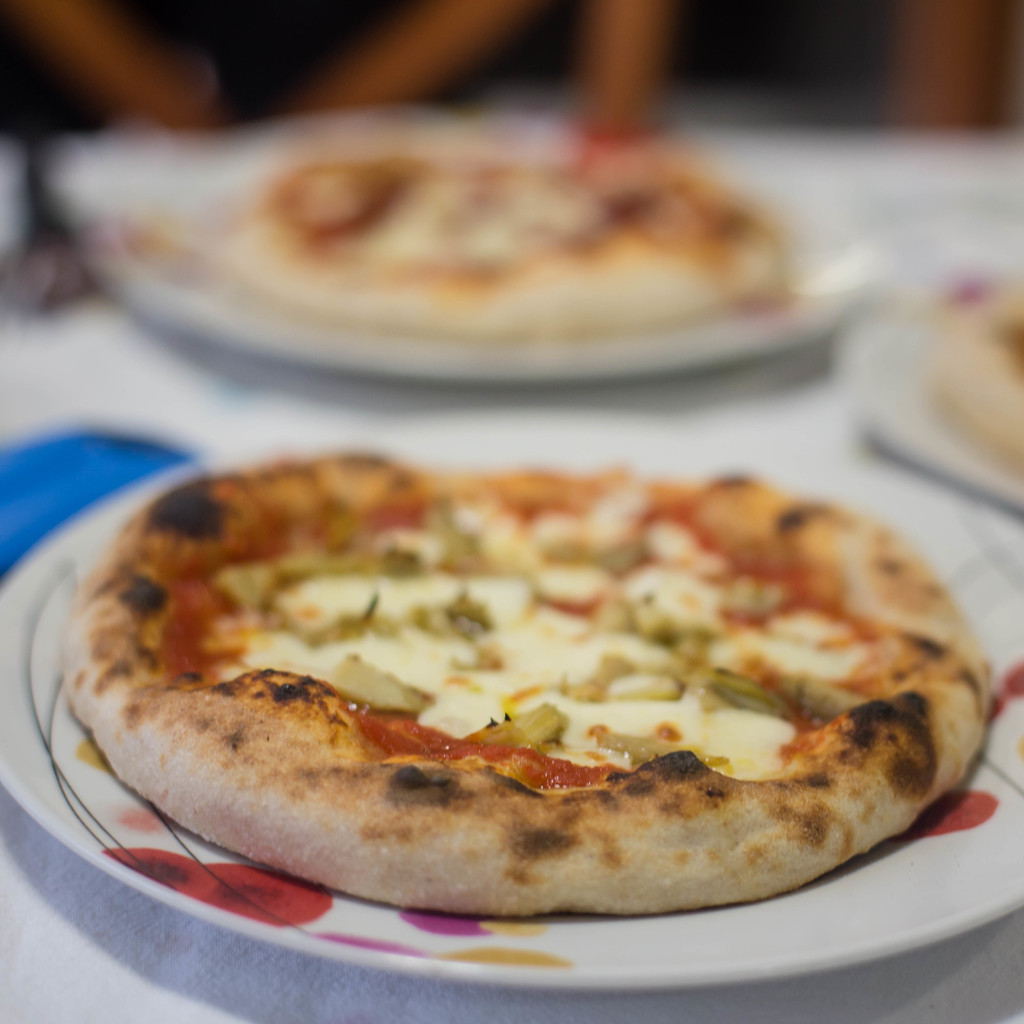Pizza: (55, 444, 999, 913)
